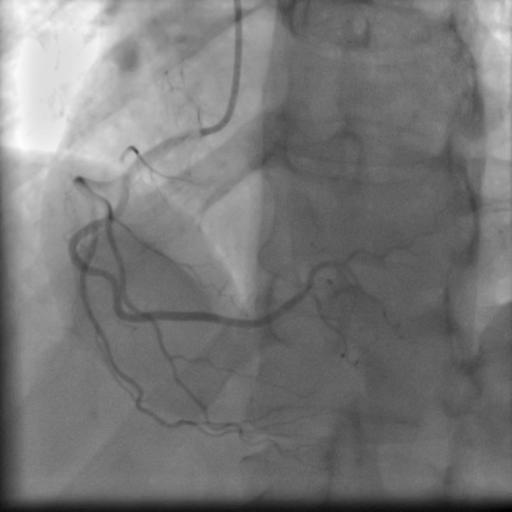Stenosis: (88, 262, 117, 296)
